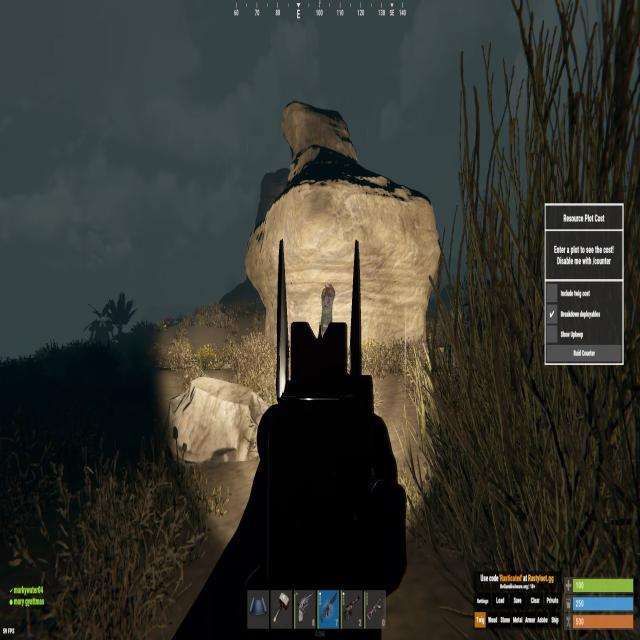Player: (317, 272, 338, 345)
